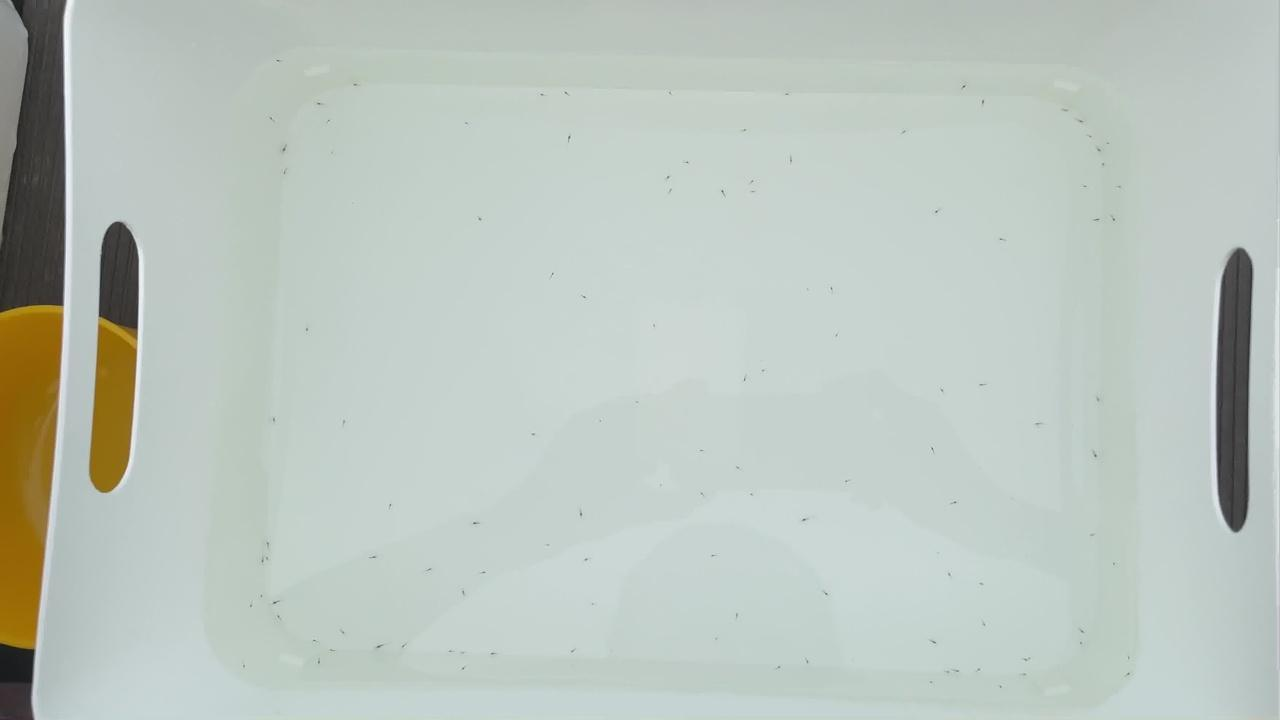shrimp: (272, 60, 284, 68), (267, 115, 279, 123), (280, 148, 292, 156), (280, 170, 292, 178), (324, 120, 336, 128), (312, 101, 324, 109), (349, 80, 361, 88), (460, 122, 472, 130), (477, 218, 489, 226), (564, 135, 576, 143), (536, 93, 548, 101), (560, 89, 572, 97), (661, 90, 673, 98), (681, 158, 693, 166), (664, 173, 676, 181), (665, 189, 677, 197), (720, 189, 732, 197), (748, 189, 760, 197), (746, 178, 758, 186), (738, 129, 750, 137), (779, 91, 791, 99), (786, 160, 798, 168), (899, 132, 911, 140), (958, 83, 970, 91), (979, 98, 991, 106), (1060, 107, 1072, 115), (1076, 119, 1088, 127), (1085, 135, 1097, 143), (1093, 146, 1105, 154), (1103, 140, 1115, 148), (1099, 163, 1111, 171), (1116, 186, 1128, 194), (1108, 217, 1120, 225), (1092, 219, 1104, 227), (1078, 181, 1090, 189), (996, 238, 1008, 246), (931, 209, 943, 217), (829, 284, 841, 292), (548, 272, 560, 280), (579, 295, 591, 303), (650, 323, 662, 331), (739, 374, 751, 382), (758, 367, 770, 375), (834, 332, 846, 340), (803, 288, 815, 296), (935, 388, 947, 396), (978, 381, 990, 389), (1032, 420, 1044, 428), (1091, 451, 1103, 459), (1092, 396, 1104, 404), (1087, 531, 1099, 539), (1109, 561, 1121, 569), (949, 499, 961, 507), (926, 444, 938, 452), (945, 573, 957, 581), (977, 580, 989, 588), (980, 620, 992, 628), (974, 666, 986, 674), (994, 684, 1006, 692), (1022, 672, 1034, 680), (1020, 659, 1032, 667), (1078, 641, 1090, 649), (1078, 629, 1090, 637), (1125, 655, 1137, 663), (1125, 670, 1137, 678), (953, 667, 965, 675), (944, 667, 956, 675), (925, 680, 937, 688), (930, 640, 942, 648), (822, 591, 834, 599), (800, 518, 812, 526), (843, 477, 855, 485), (749, 492, 761, 500), (733, 466, 745, 474), (696, 447, 708, 455), (631, 400, 643, 408), (697, 491, 709, 499), (710, 553, 722, 561), (732, 614, 744, 622), (711, 637, 723, 645), (772, 664, 784, 672), (802, 657, 814, 665), (568, 646, 580, 654), (586, 603, 598, 611), (582, 557, 594, 565), (577, 513, 589, 521), (528, 433, 540, 441), (542, 542, 554, 550), (470, 521, 482, 529), (480, 569, 492, 577), (459, 589, 471, 597), (445, 650, 457, 658), (459, 669, 471, 677), (458, 650, 470, 658), (487, 652, 499, 660), (427, 570, 439, 578), (367, 553, 379, 561), (385, 504, 397, 512), (339, 419, 351, 427), (301, 328, 313, 336), (272, 418, 284, 426), (264, 537, 276, 545), (262, 554, 274, 562), (256, 558, 268, 566), (247, 603, 259, 611), (256, 595, 268, 603), (271, 599, 283, 607), (274, 615, 286, 623), (314, 660, 326, 668), (309, 637, 321, 645), (326, 646, 338, 654), (339, 625, 351, 633), (371, 645, 383, 653), (398, 642, 410, 650), (239, 662, 251, 670)
